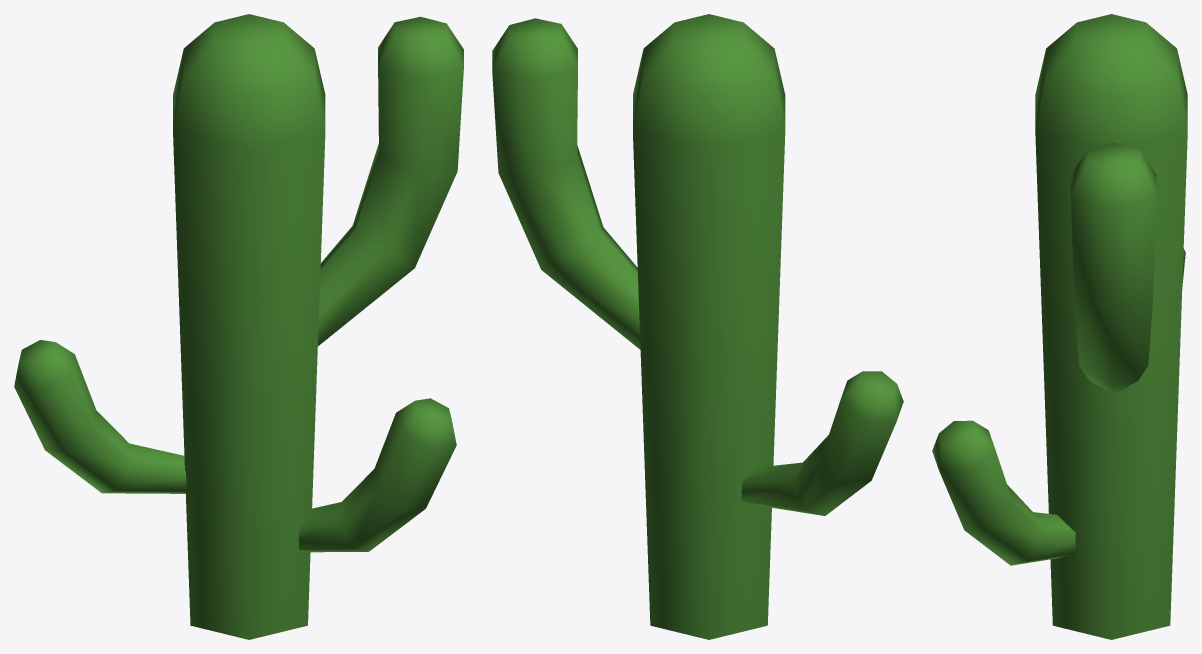
The model's file is Cactus_02.fbx.
3 renders of one model, left to right at view 1: azimuth 30°, elevation 25°; view 2: azimuth 150°, elevation 25°; view 3: azimuth 270°, elevation 25°, orthographic.
Visible parts, largest first — view 1: Cactus_02; view 2: Cactus_02; view 3: Cactus_02.
Part boxes in pixels (x1,y1,x2,y2): Cactus_02: [14, 14, 463, 639]; Cactus_02: [492, 14, 903, 639]; Cactus_02: [932, 14, 1187, 639].
Size of the model in its own units: 863 by 1120 by 447.
